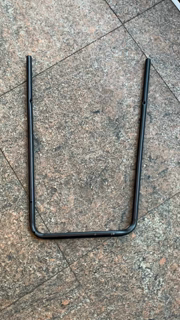U pipe: (24, 53, 155, 243)
